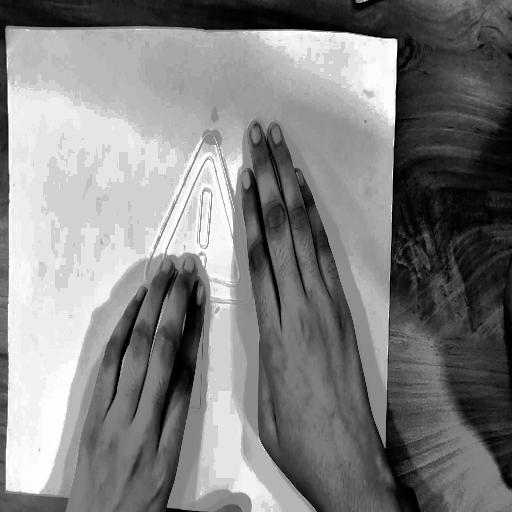bottom_left: (3, 485, 11, 497)
signboard: (135, 121, 265, 430)
top_left: (3, 23, 9, 34)
top_right: (393, 31, 402, 47)
